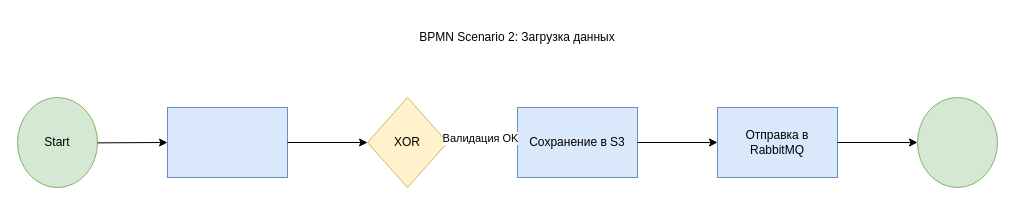
The diagram is 1015 pixels wide and 205 high, and some of its shapes have lost their labels. The box of each missing label's shape, as (x1, y1, x2, y2) in pixels:
End: (916, 96, 998, 188)
Выбор файлов: (166, 106, 288, 178)
